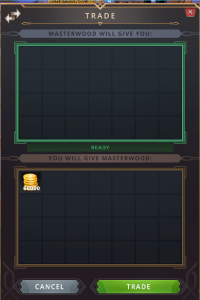gold: (19, 172, 41, 192)
